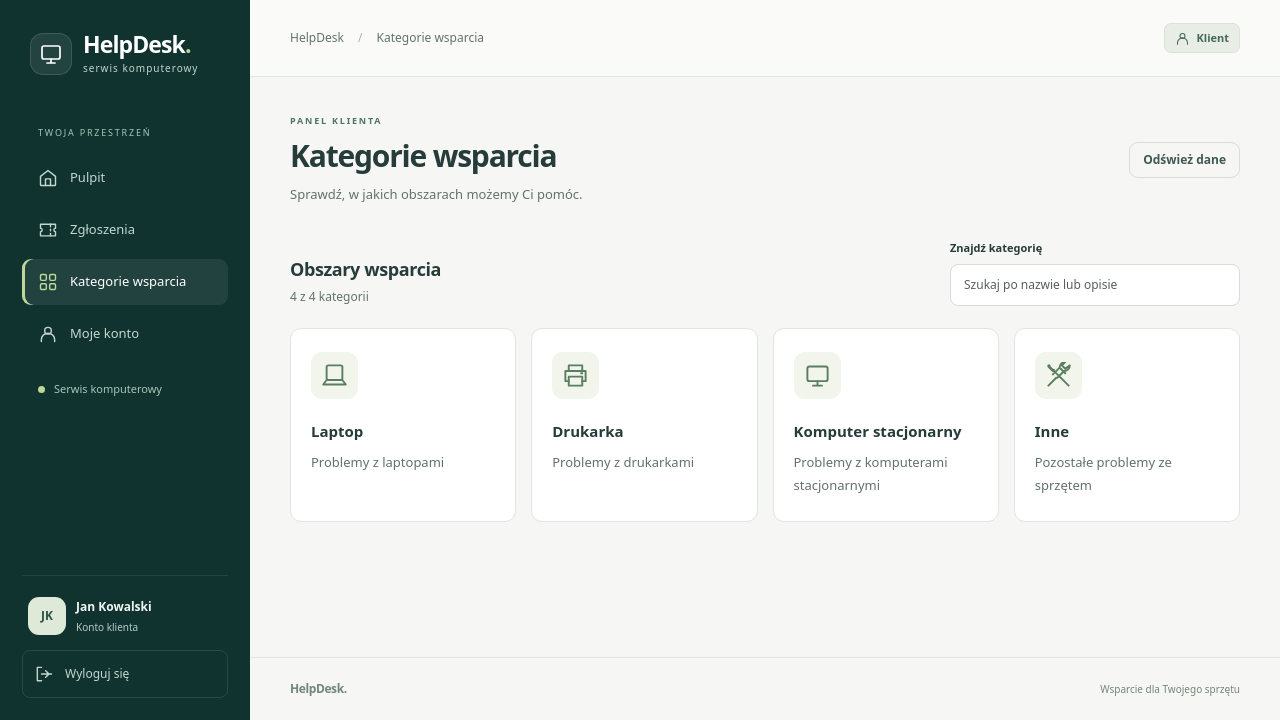
Kategorie można filtrować; pusty wynik ma działający przycisk wyczyszczenia
The image size is (1280, 720).
Expected: the heading "Laptop" is shown, [311,421,363,441]
In the search field labelled "Znajdź kategorię": (1095, 285) [950,264,1240,306], type "druk"
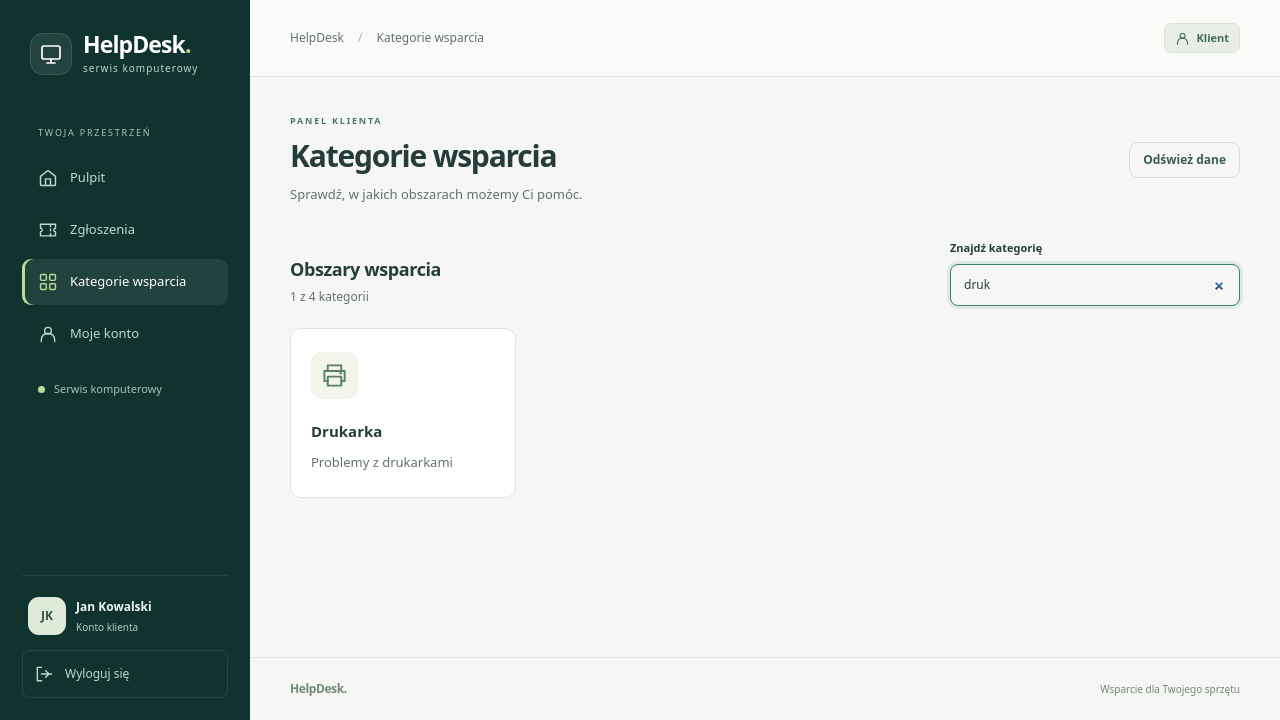
Expected: the heading "Drukarka" is shown, [311,421,382,441]
Expected: the heading "Laptop" is gone
Replace the text in the search field labelled "Znajdź kategorię" with "nieistniejący sprzęt": (1095, 285) [950,264,1240,306]
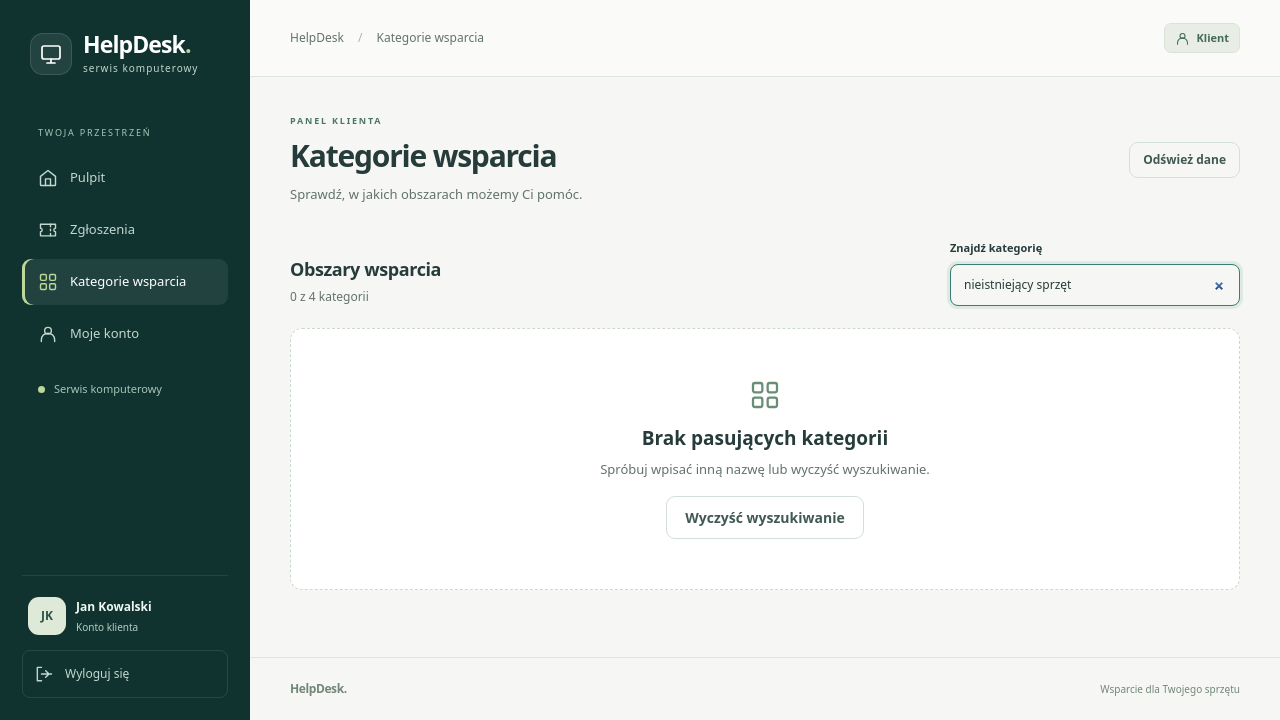
Expected: the heading "Brak pasujących kategorii" is shown, [642,425,888,451]
Click the button "Wyczyść wyszukiwanie": (765, 518) [666,496,864,540]
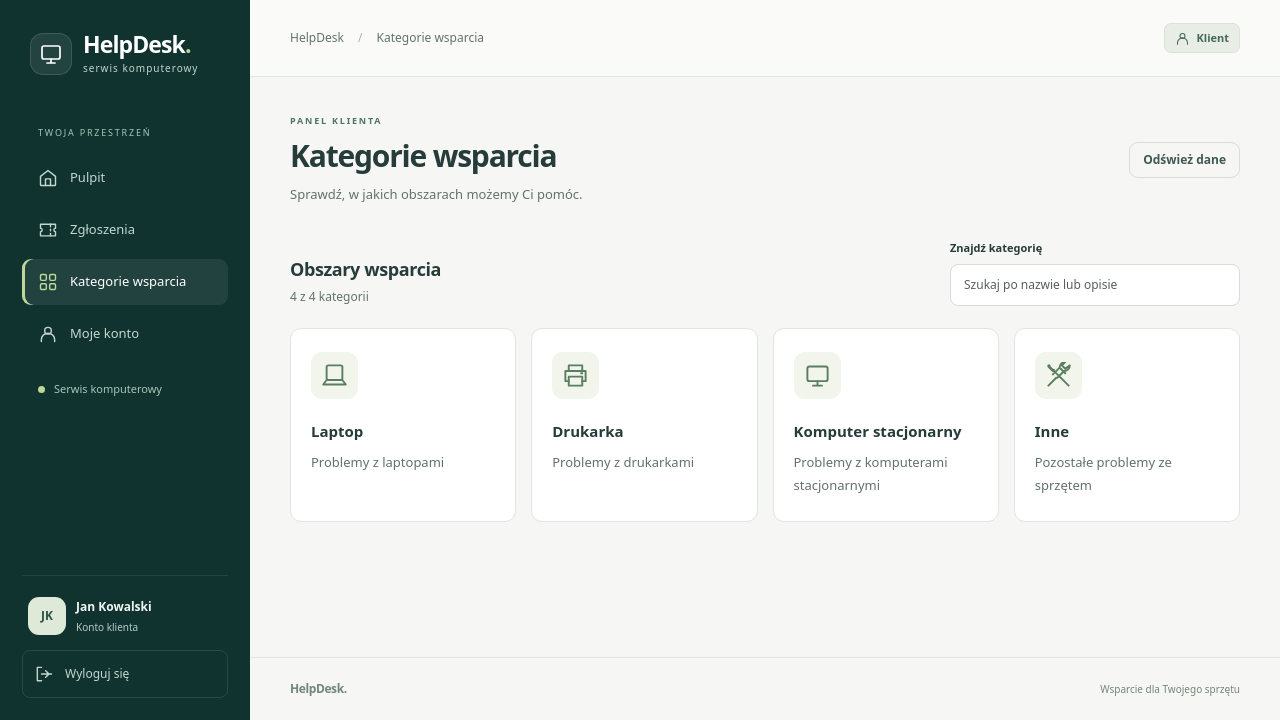
Expected: the heading "Laptop" is shown, [311,421,363,441]
